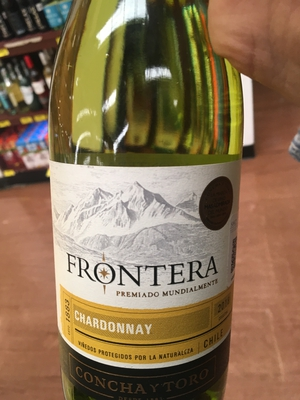frontera chardonnay: (34, 14, 248, 400)
